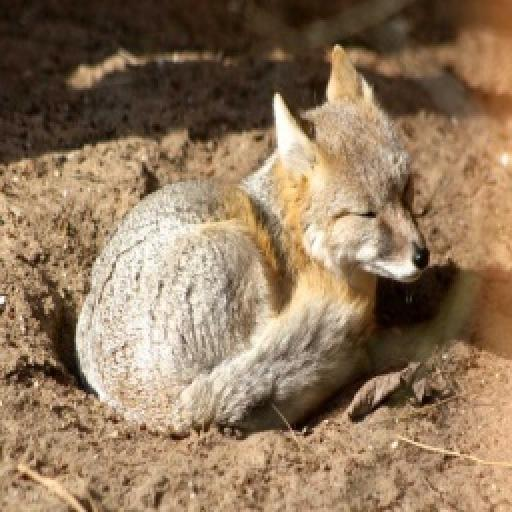zorro: (76, 46, 428, 434)
